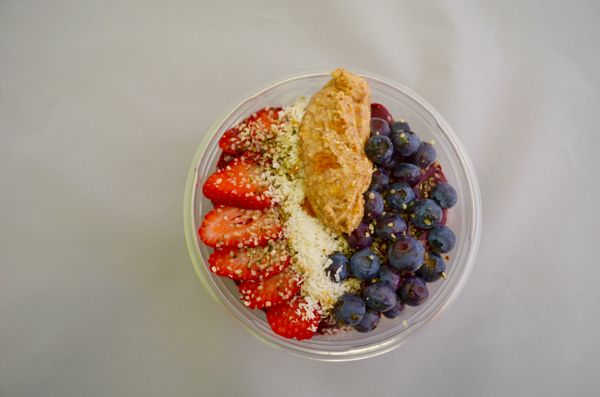sushi: (181, 61, 482, 361)
